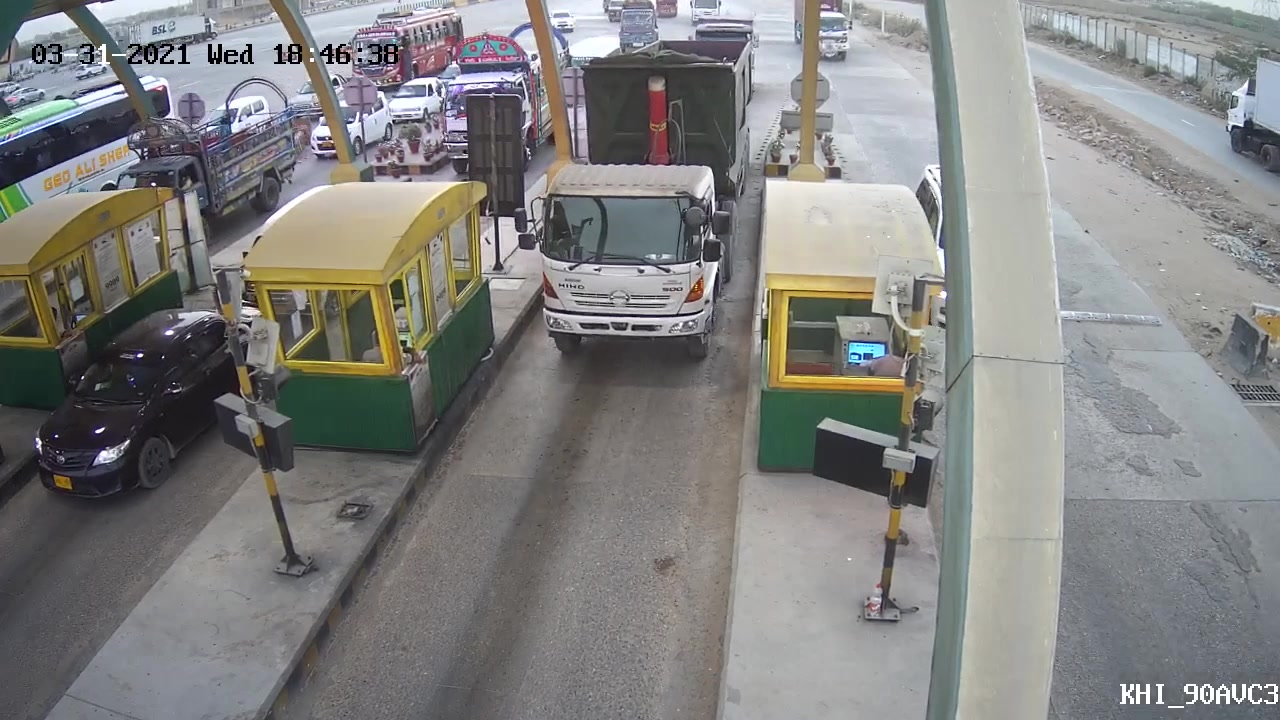F5: (504, 143, 744, 362)
